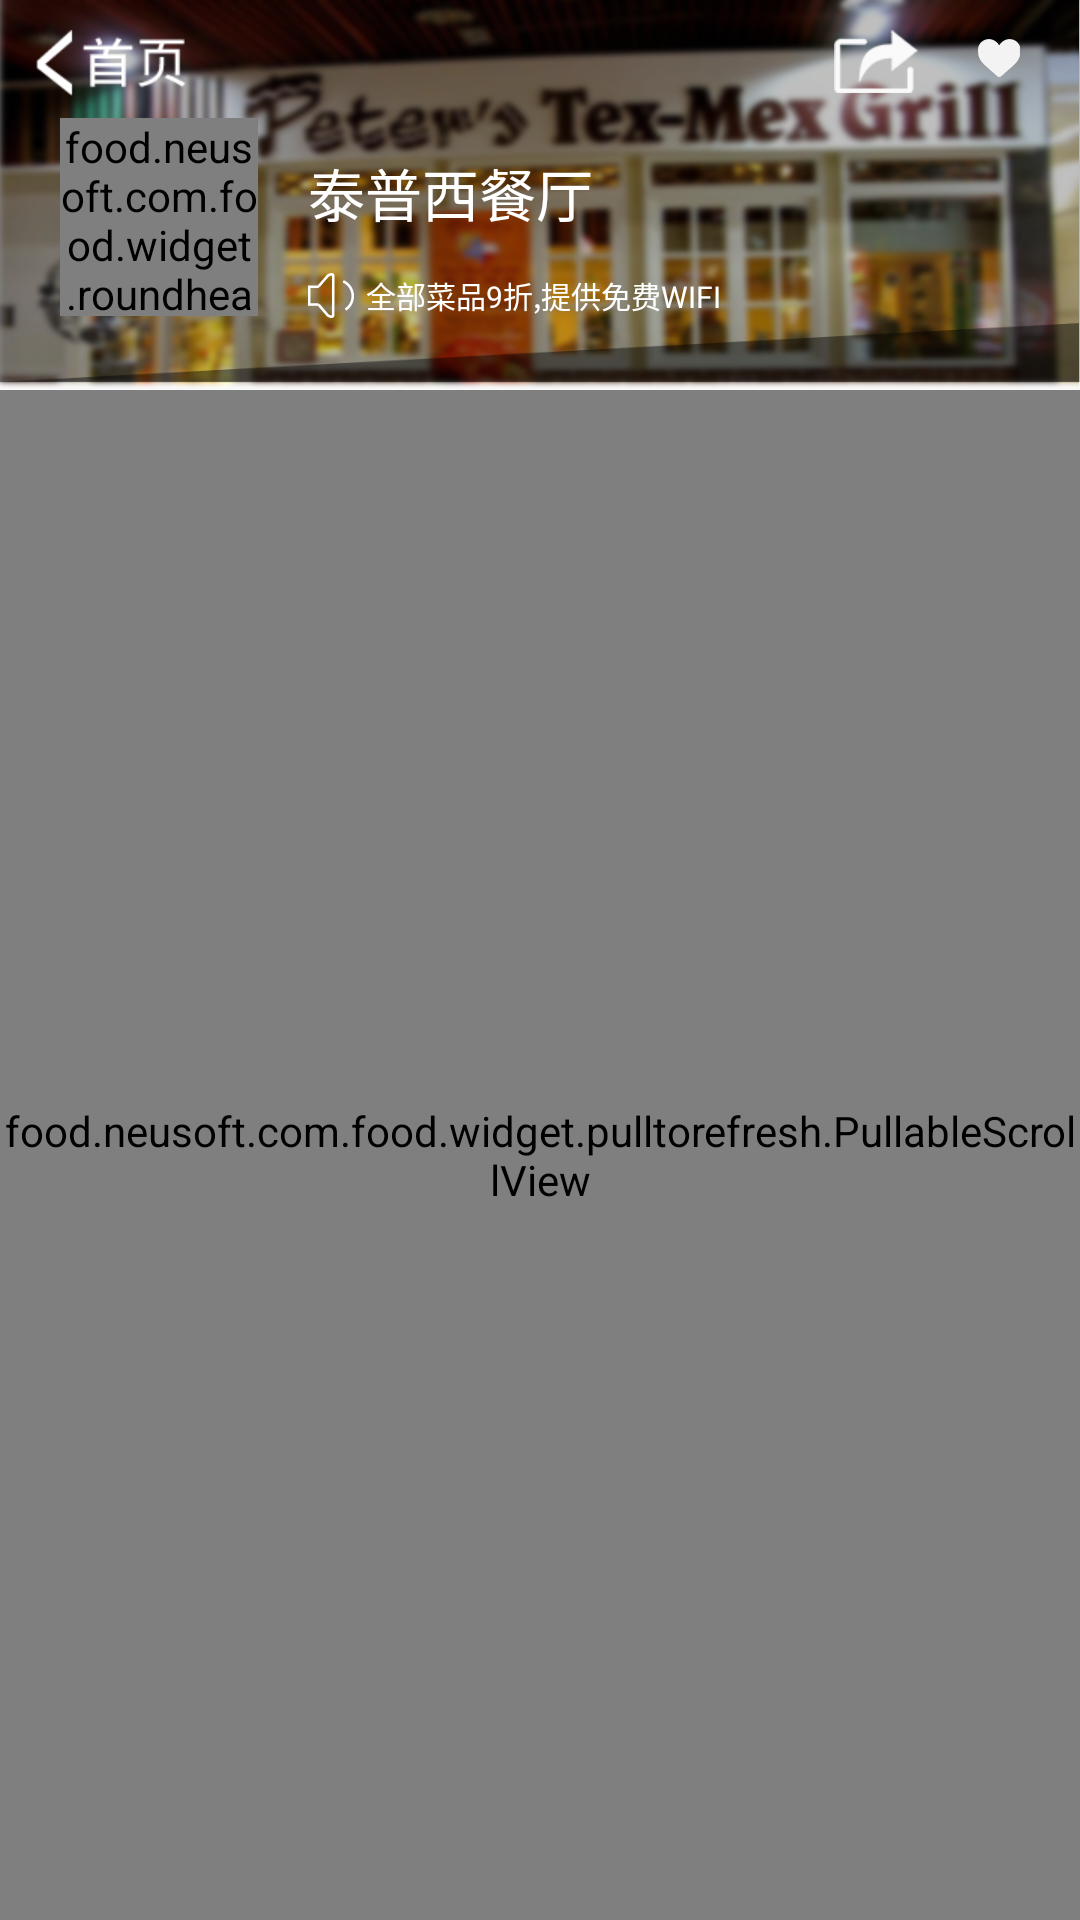

Where to tap for icons on this 1080px x 1920px app screen, as point (x, y):
mine share: point (876, 61)
trumput: point (331, 295)
